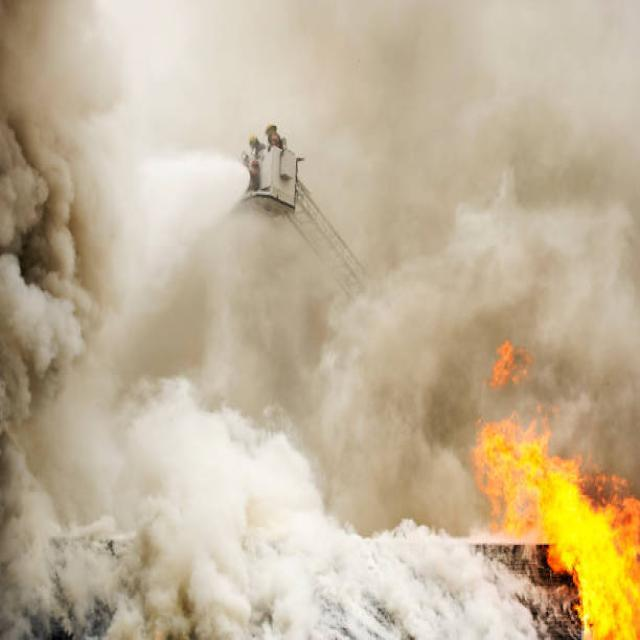Fire: (476, 400, 640, 640)
Smoke: (3, 246, 480, 640), (375, 7, 640, 482), (0, 0, 163, 328)
